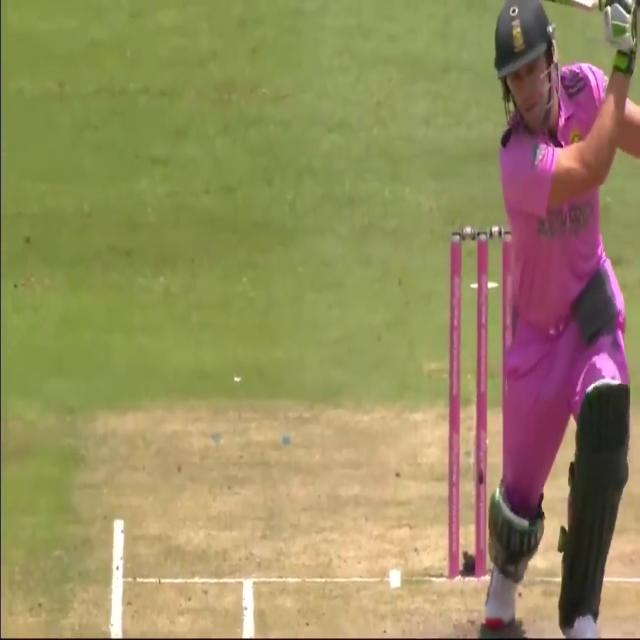Ball: (452, 0, 640, 634)
